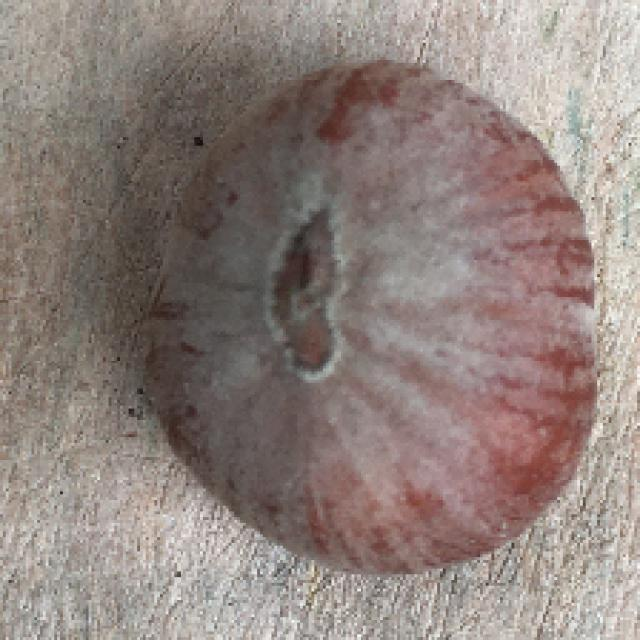qualityHazelnut: (145, 44, 600, 580)
